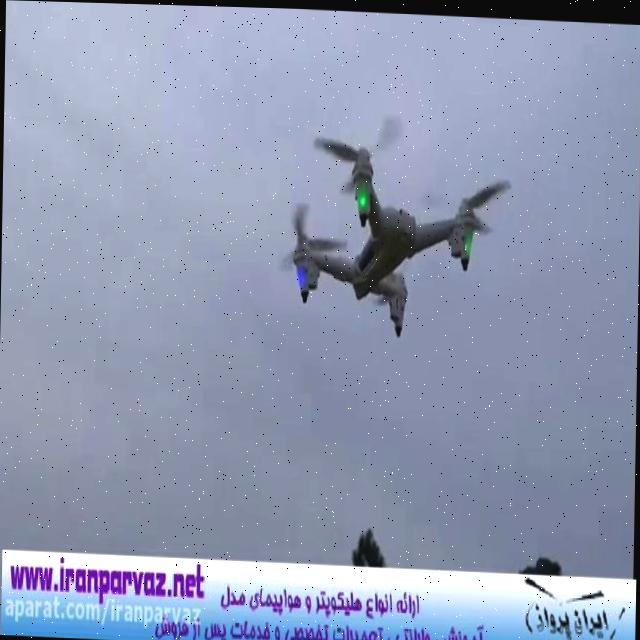drone: (270, 100, 518, 343)
